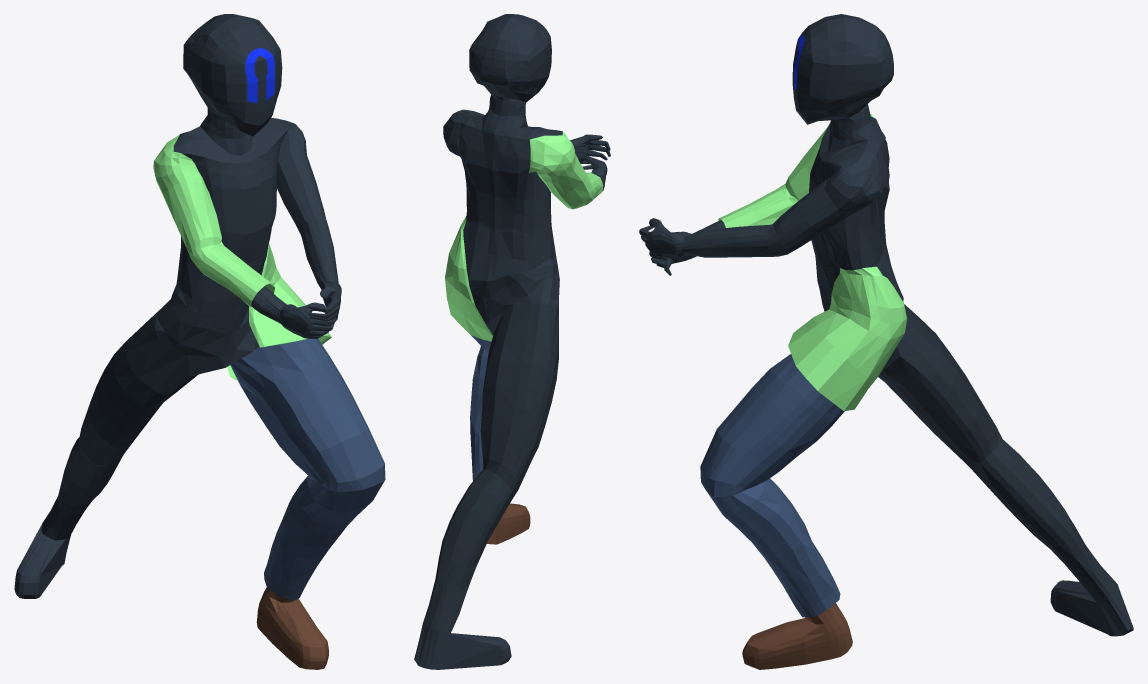
File: Mar_WB_000020.obj
3 renders of one model, left to right at view 1: azimuth 30°, elevation 25°; view 2: azimuth 150°, elevation 25°; view 3: azimuth 270°, elevation 25°, orthographic. The views are drawn at different scales.
Parts seen in each view (by area): view 1: Cube.000_Cube.001; view 2: Cube.000_Cube.001; view 3: Cube.000_Cube.001.
Part boxes in pixels (<box>): Cube.000_Cube.001: <box>14,14,385,669</box>; Cube.000_Cube.001: <box>414,14,610,669</box>; Cube.000_Cube.001: <box>639,14,1133,669</box>.
Bounding box in the file's own units: 1.14 × 3.53 × 2.48.
